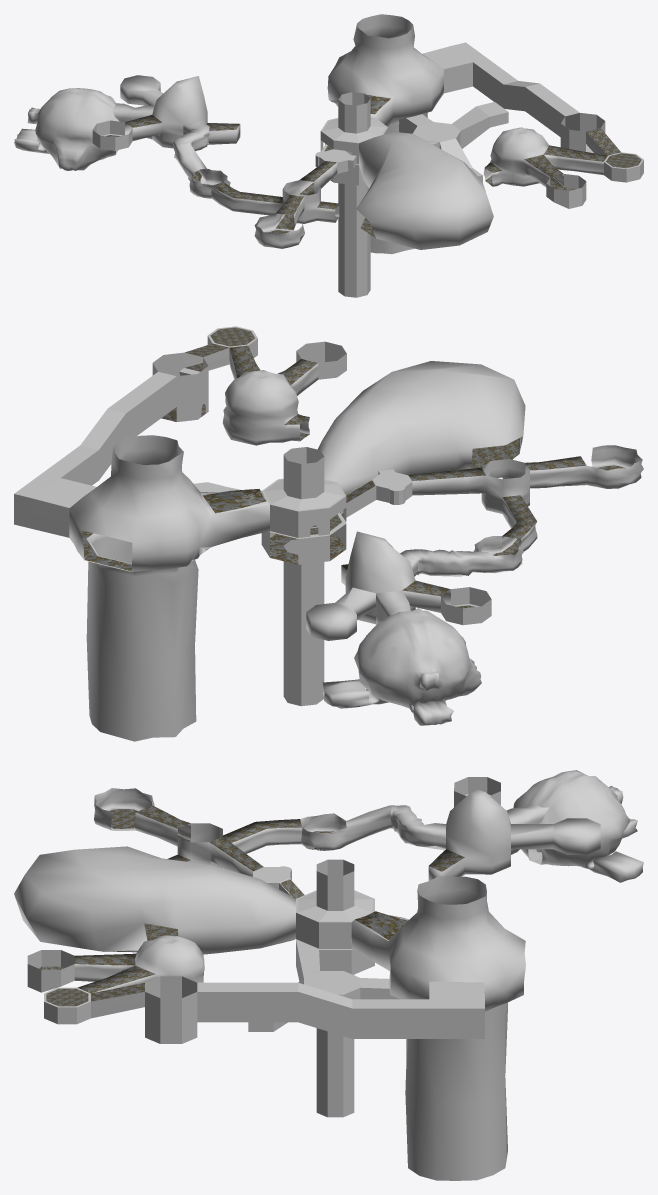
File: Level 1 Basis.fbx
3 renders of one model, top to bottom at view 1: azimuth 30°, elevation 25°; view 2: azimuth 150°, elevation 25°; view 3: azimuth 270°, elevation 25°, orthographic. The views are drawn at different scales.
Visible parts, largest first — view 1: Roundcube.002, Plane.001, Main Cistern, E Chasm Room, Cube.020, Minecart Room, SE Ossuary, Minecart Track Room, E Cistern Room, N Minecart Track Room, W Minecart Track ROom, SE Minecart Room (+5 smaller); view 2: Plane.001, Roundcube.002, Main Cistern, Cube.020, E Chasm Room, Minecart Room, Minecart Track Room, SE Ossuary, W Minecart Track ROom, N Minecart Track Room, E Ossuary, SE Minecart Room (+4 smaller); view 3: Plane.001, Roundcube.002, E Chasm Room, Main Cistern, Cube.020, SE Ossuary, Minecart Room, Minecart Track Room, N Minecart Track Room, W Minecart Track ROom, SE Minecart Room, E Ossuary (+5 smaller).
Boxes of the visible parts, x1,y1,x2,y2 form: Roundcube.002: (356,132,493,249); Plane.001: (327,14,443,254); Main Cistern: (320,92,439,297); E Chasm Room: (422,42,605,153); Cube.020: (14,88,119,170); Minecart Room: (483,127,607,189); SE Ossuary: (125,76,240,148); Minecart Track Room: (210,161,339,223); E Cistern Room: (399,102,508,182); N Minecart Track Room: (173,120,230,198); W Minecart Track ROom: (254,195,304,248); SE Minecart Room: (586,128,643,182); Plane.001: (69,435,269,741); Roundcube.002: (317,361,525,494); Main Cistern: (228,447,346,706); Cube.020: (322,608,481,725); E Chasm Room: (14,352,208,537); Minecart Room: (222,345,318,445); Minecart Track Room: (408,459,537,554); SE Ossuary: (341,531,450,624); W Minecart Track ROom: (525,445,643,488); N Minecart Track Room: (400,536,523,576); E Ossuary: (306,587,375,640); SE Minecart Room: (184,326,257,371); Plane.001: (351,876,525,1180); Roundcube.002: (14,846,296,954); E Chasm Room: (145,976,484,1043); Main Cistern: (296,859,374,1117); Cube.020: (513,770,643,882); SE Ossuary: (428,789,510,880); Minecart Room: (74,935,204,993); Minecart Track Room: (168,819,302,876); N Minecart Track Room: (300,805,445,850); W Minecart Track ROom: (94,788,190,846); SE Minecart Room: (44,982,144,1024); E Ossuary: (511,818,600,854).
Bounding box in the file's own units: 35408 × 17510 × 37377.
